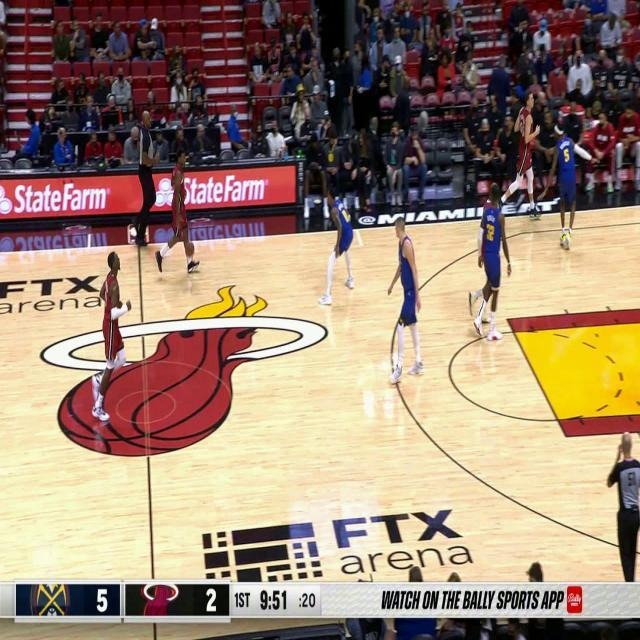rim: (186, 239, 194, 258)
